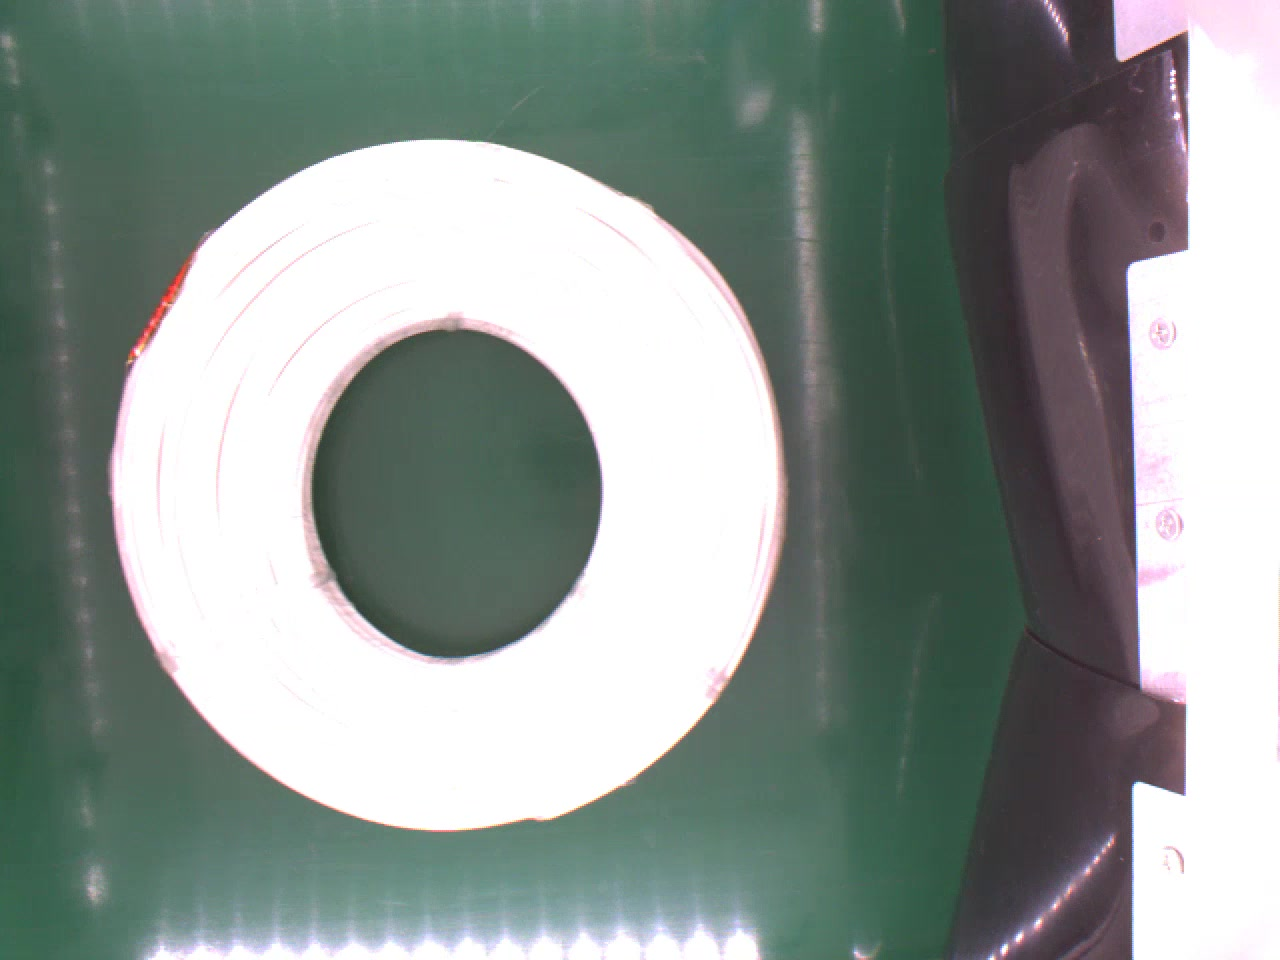white: (97, 127, 797, 829)
